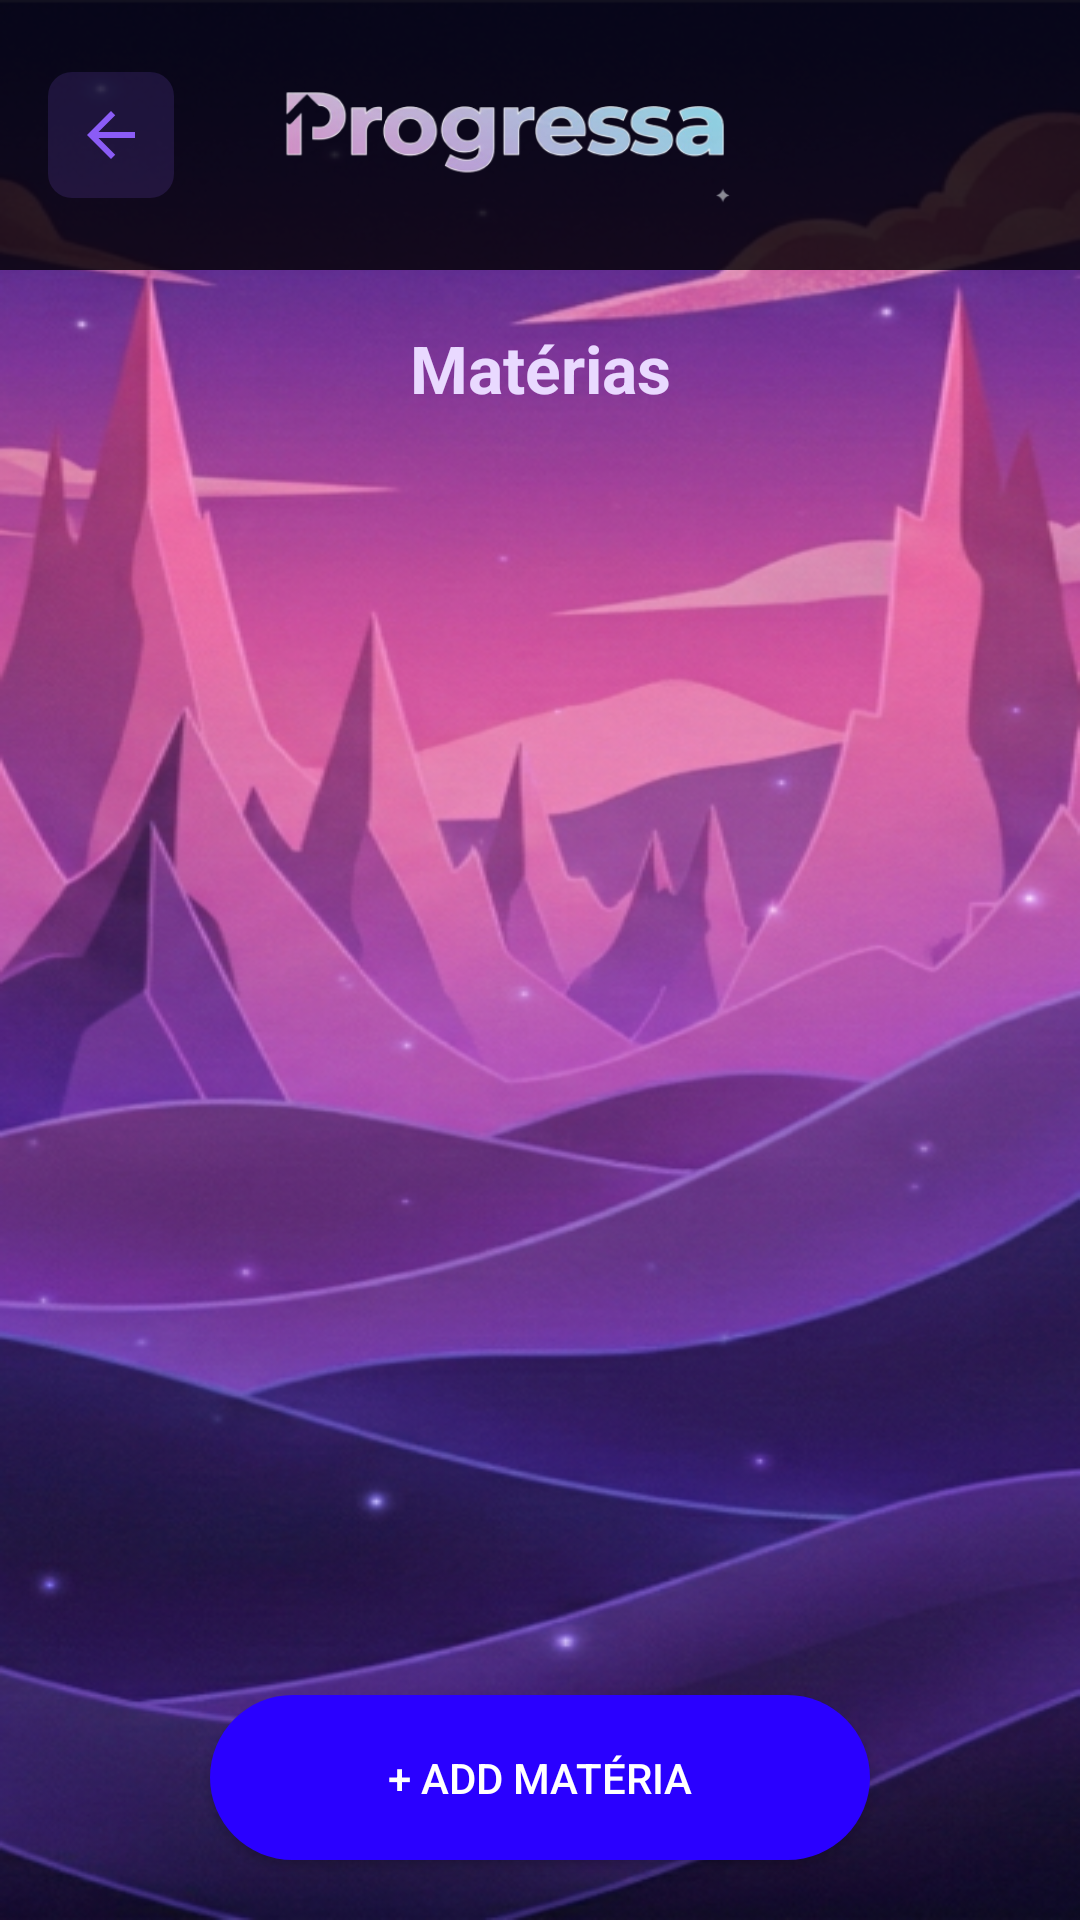

Where icons sit on this 1080 × 1920 app screen, as detection(x1, y1, x2, y2):
Voltar: detection(48, 72, 174, 198)
